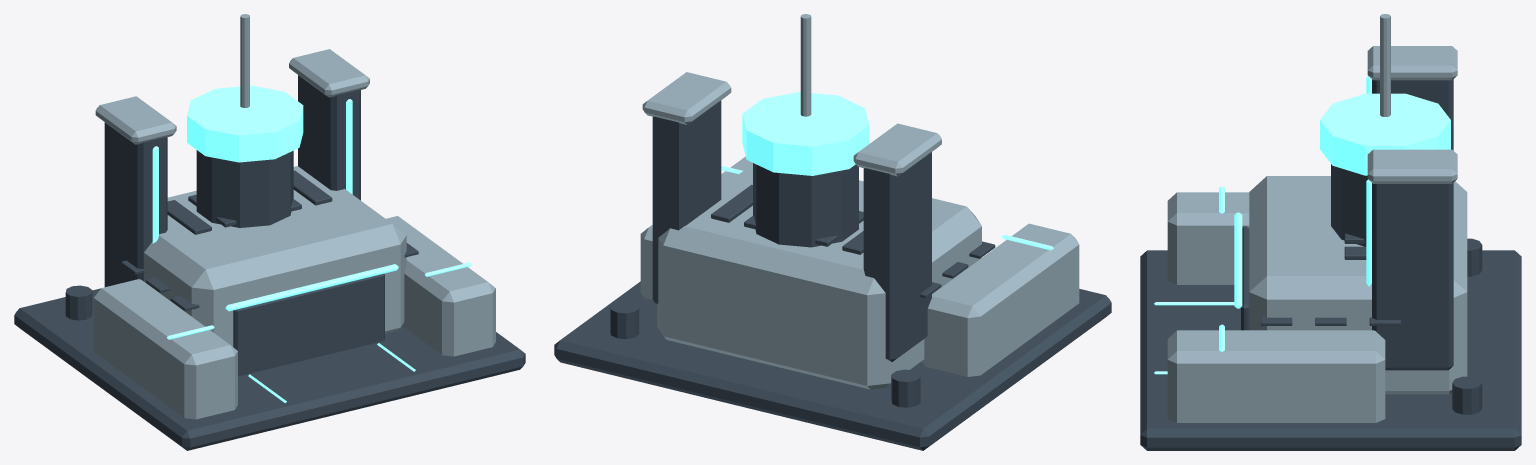
The model's file is command-high.glb.
3 views of the same model, side by side, from view 1: azimuth 30°, elevation 25°; view 2: azimuth 150°, elevation 25°; view 3: azimuth 270°, elevation 25° (orthographic). The views are drawn at different scales.
Visible parts, largest first — view 1: command-high-Bastion graphite, command-high-Bastion titanium, command-high-Bastion ion channels; view 2: command-high-Bastion titanium, command-high-Bastion graphite, command-high-Bastion ion channels; view 3: command-high-Bastion titanium, command-high-Bastion graphite, command-high-Bastion ion channels.
Boxes of the visible parts, x1,y1,x2,y2 form: command-high-Bastion graphite: (14, 75, 525, 450); command-high-Bastion titanium: (93, 14, 495, 419); command-high-Bastion ion channels: (152, 85, 472, 402); command-high-Bastion titanium: (640, 14, 1079, 389); command-high-Bastion graphite: (554, 100, 1111, 450); command-high-Bastion ion channels: (721, 92, 1053, 250); command-high-Bastion titanium: (1167, 14, 1467, 422); command-high-Bastion graphite: (1140, 79, 1521, 450); command-high-Bastion ion channels: (1154, 76, 1450, 374).
Size of the model in its own units: 16 by 14 by 14.
